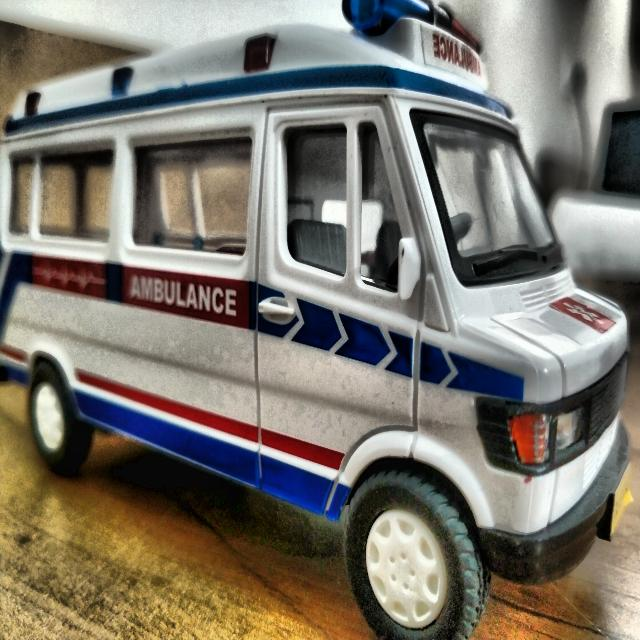Ambulance: (2, 0, 634, 637)
